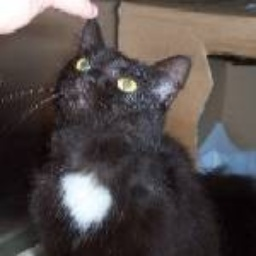cat: (29, 15, 223, 255)
